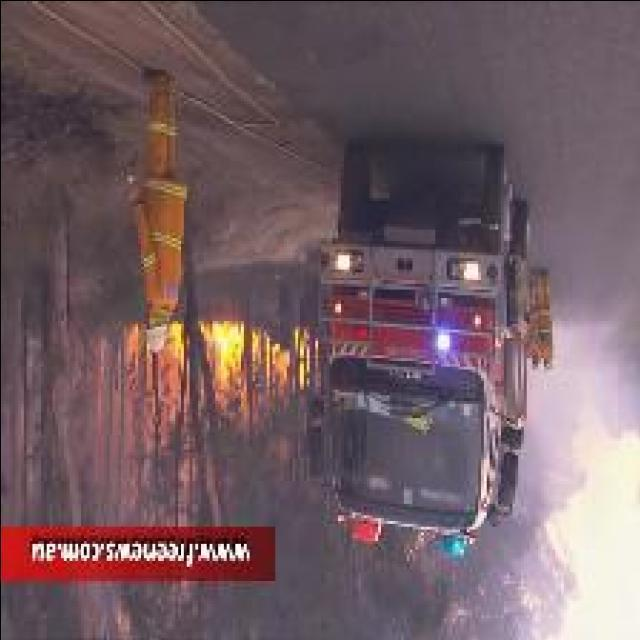Fire: (202, 321, 244, 413), (168, 322, 182, 364)
